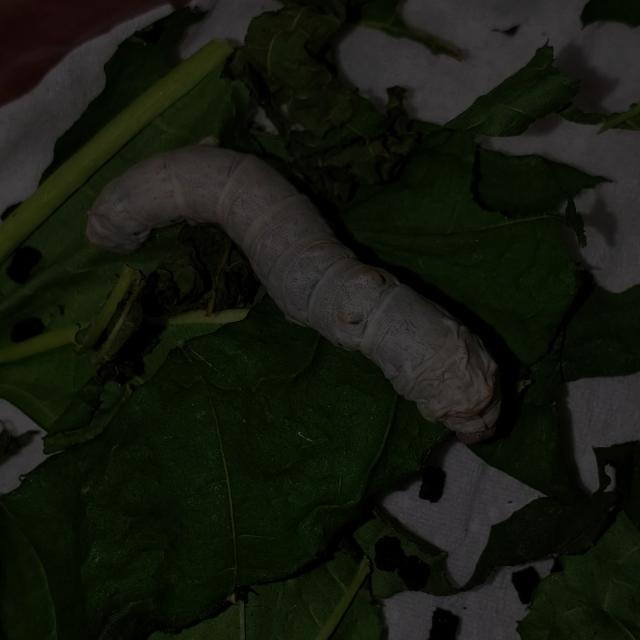Healthy: (77, 136, 510, 452)
